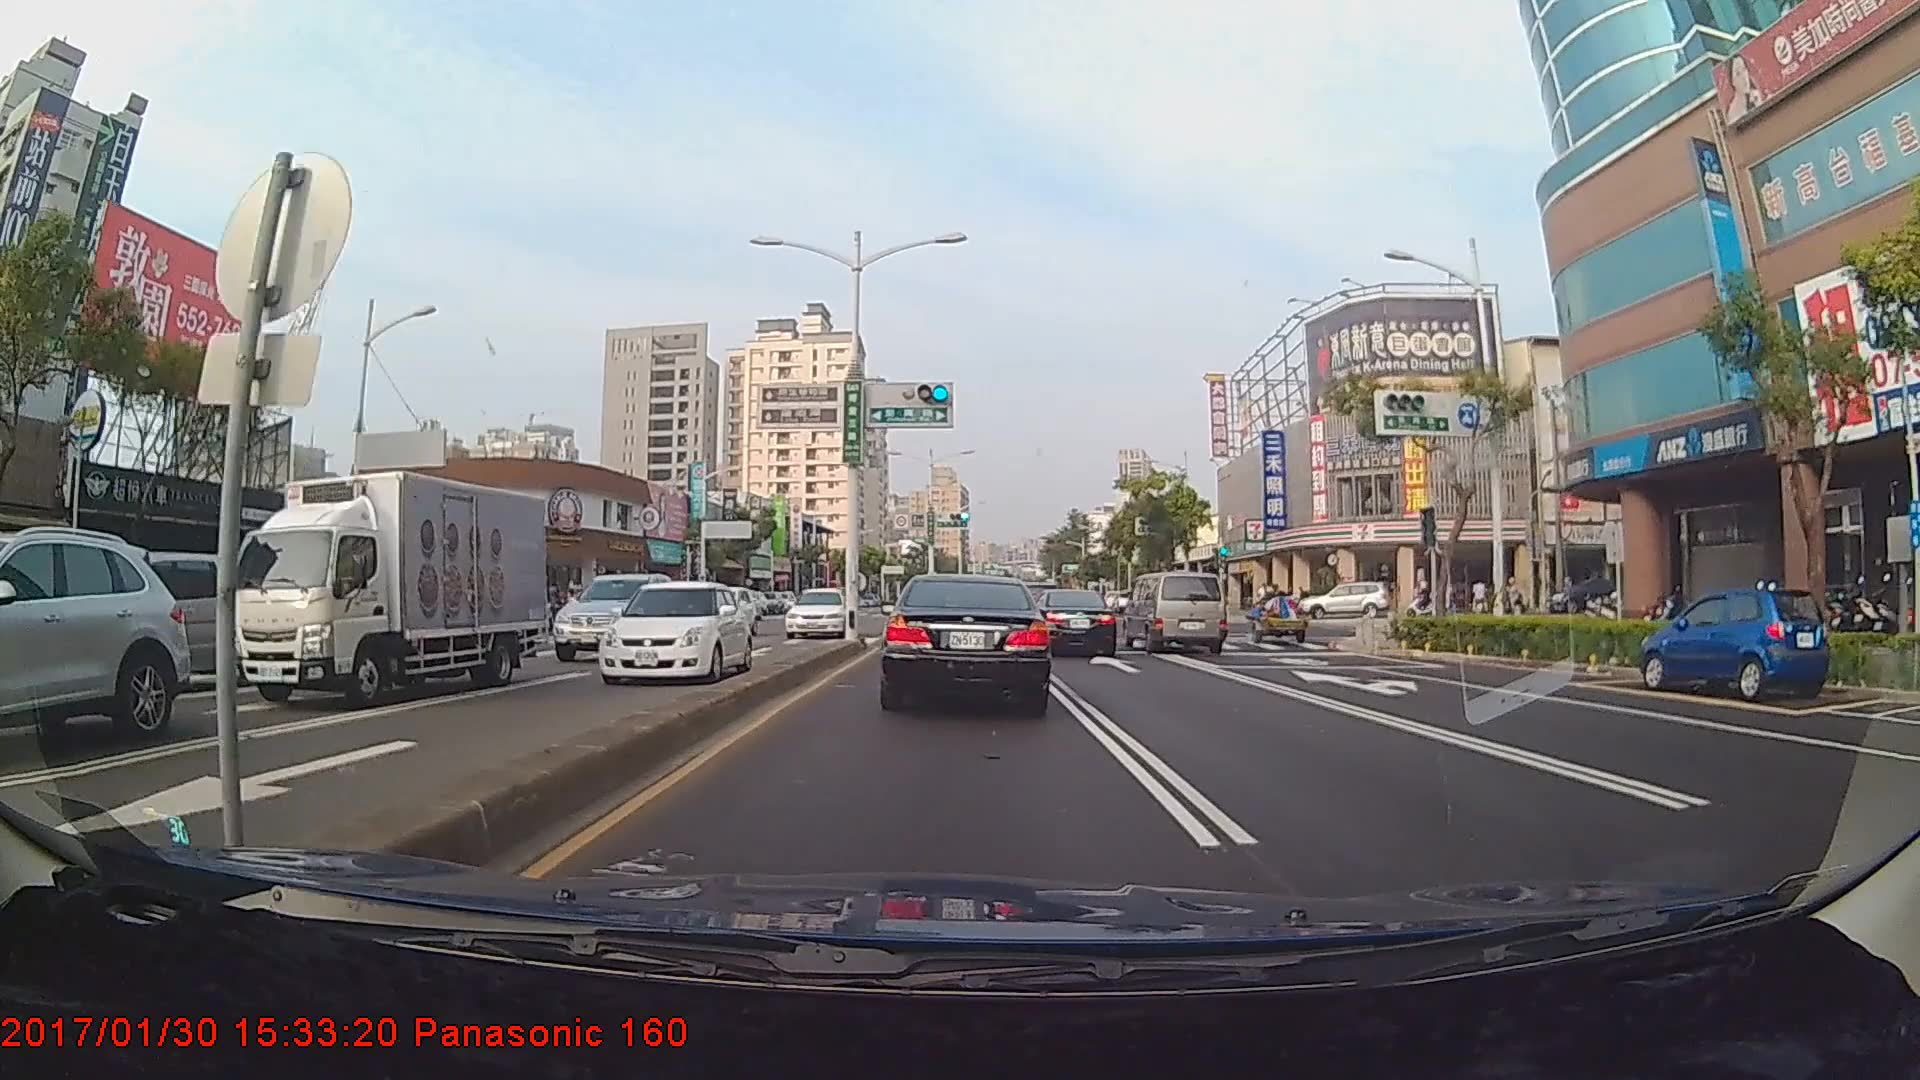vehicle: (210, 458, 560, 713), (0, 525, 181, 765), (63, 549, 251, 684), (884, 571, 1054, 713), (1644, 587, 1826, 702), (596, 578, 756, 682), (543, 566, 679, 659), (1124, 571, 1228, 655), (1033, 588, 1120, 655), (1296, 582, 1394, 620), (783, 584, 852, 637), (695, 583, 760, 636)
